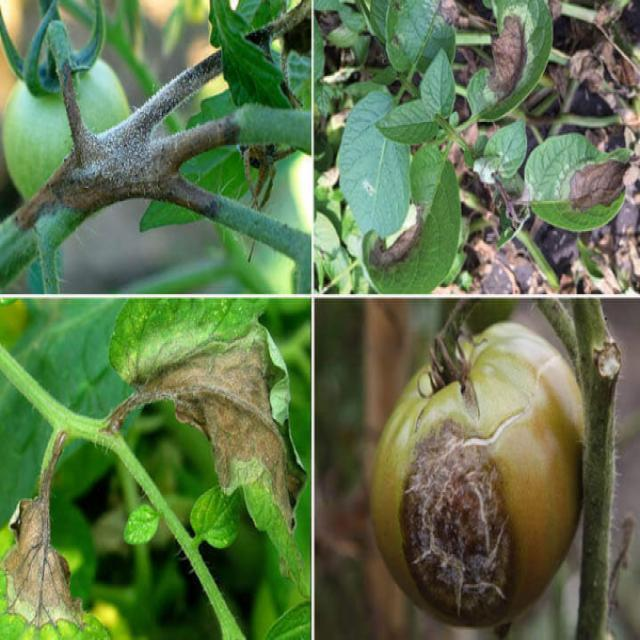Healthy Leaf: (188, 486, 242, 558), (378, 104, 440, 144), (421, 49, 454, 118), (121, 502, 163, 544)
